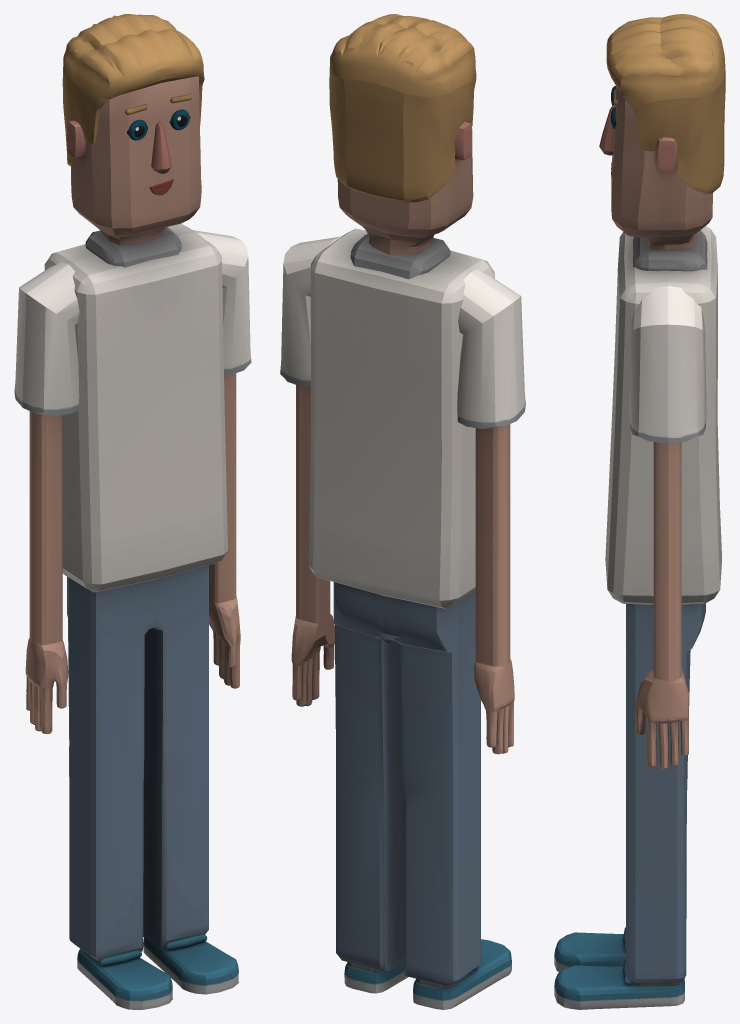
Rendered from Rubenoid-Male-01.obj.
3 views of the same model, side by side, from view 1: azimuth 30°, elevation 25°; view 2: azimuth 150°, elevation 25°; view 3: azimuth 270°, elevation 25° (orthographic). The views are drawn at different scales.
Parts seen in each view (by area): view 1: Body, Hair; view 2: Body, Hair; view 3: Body, Hair.
Part boxes in pixels (x1,y1,x2,y2): Body: (14,76,251,1009); Hair: (62,14,204,166); Body: (280,122,525,1009); Hair: (329,14,476,202); Body: (554,86,721,1009); Hair: (606,14,725,193).
Bounding box in the file's own units: 0.4492 × 1.82 × 0.2958.
Materials: 2 (2 with a texture image).
